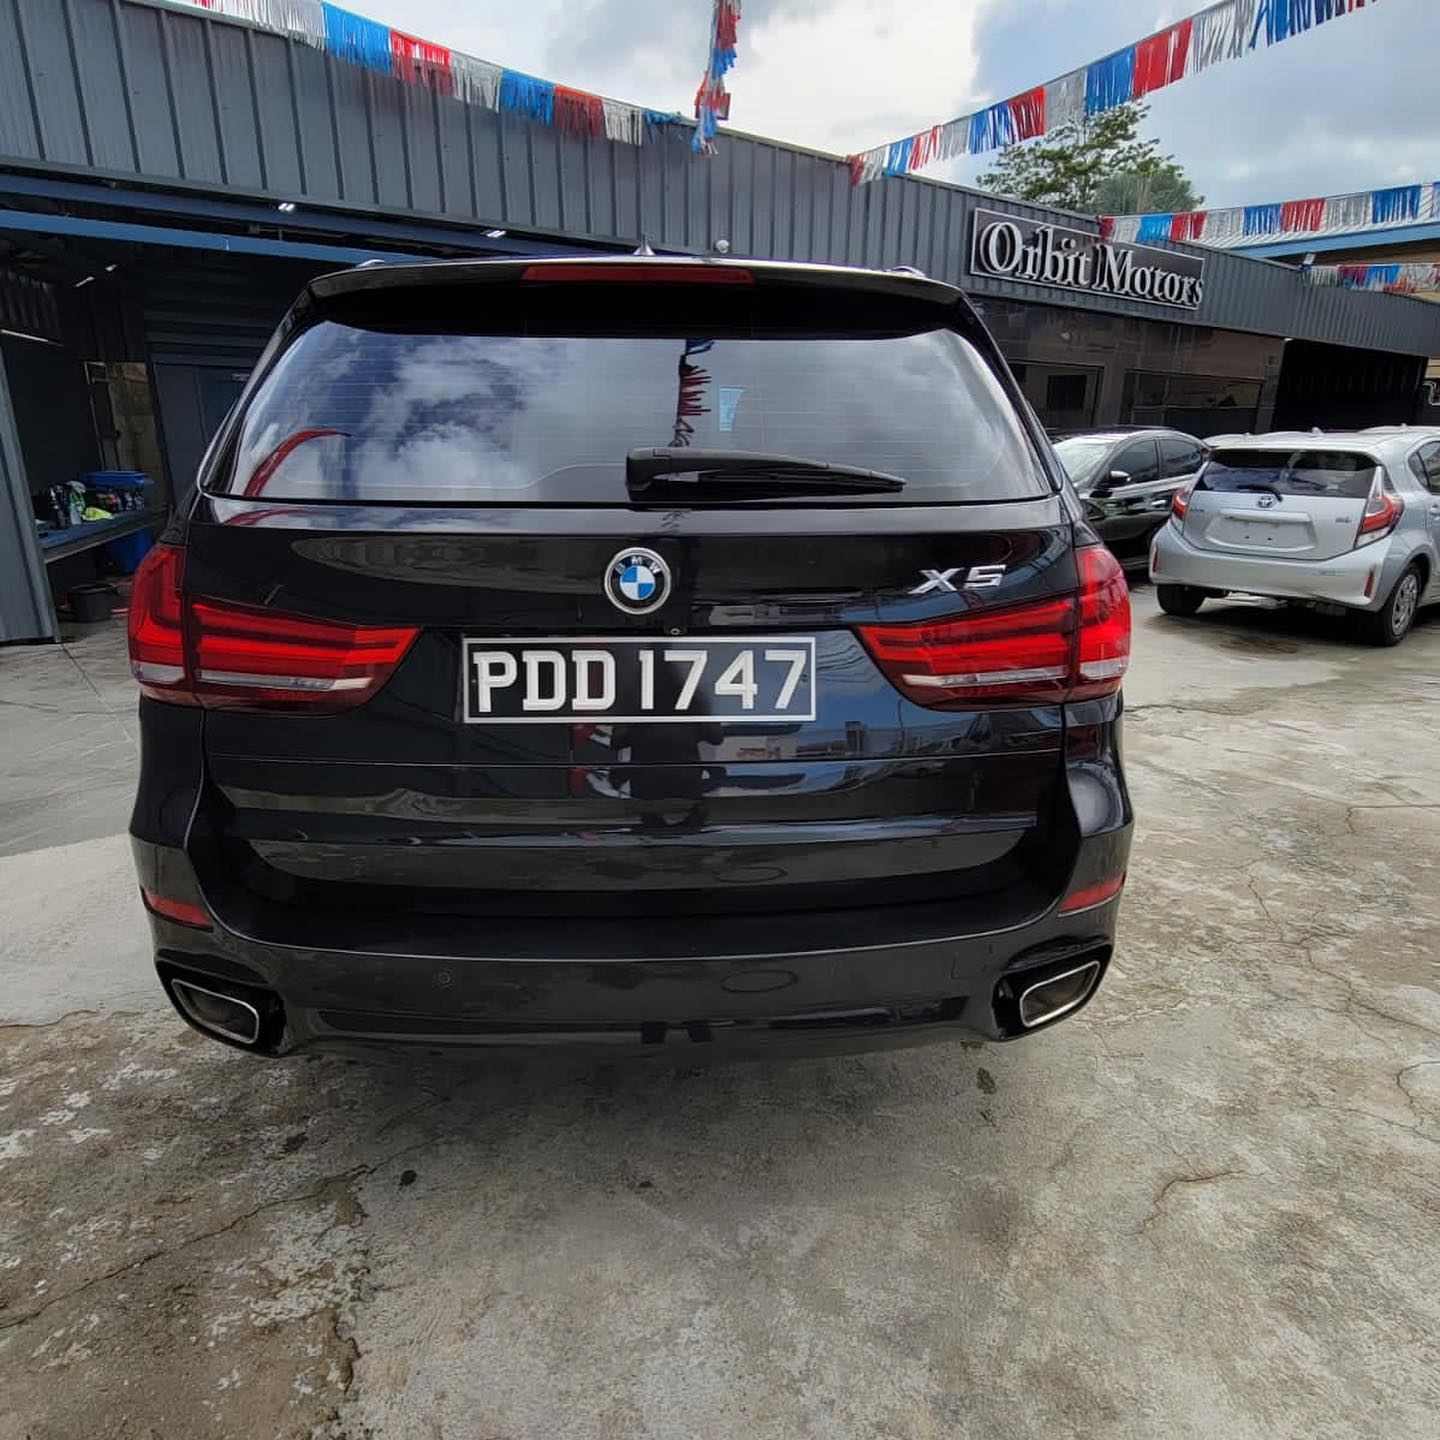License-Plate: (466, 642, 812, 720)
